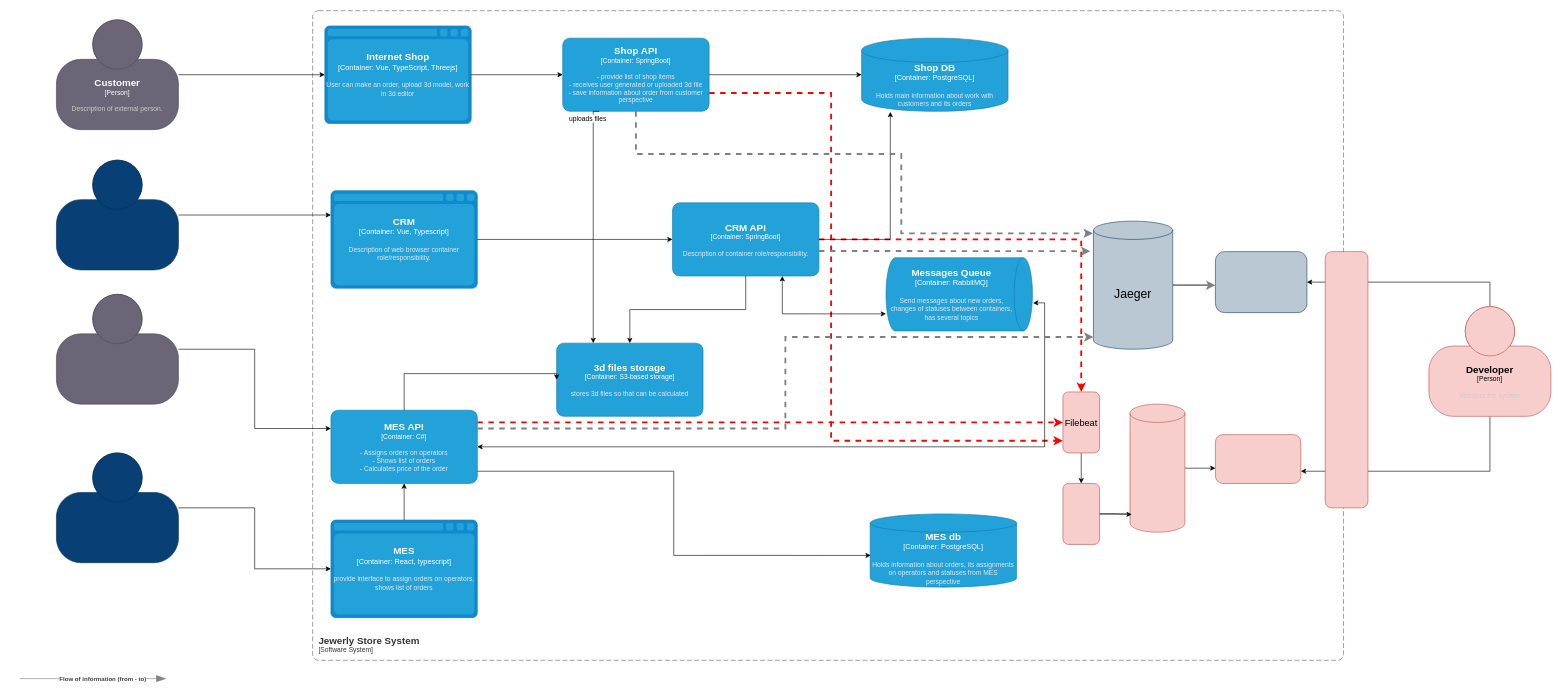
Image size: 1562x699. Some labels were removed from this diagram. The box of each missing label's shape, as (x1, y1, x2, y2) in pixels:
API user [Person] Description of external person.: (56, 294, 178, 404)
Elastic search: (1129, 404, 1185, 532)
Jaeger UI: (1215, 251, 1307, 313)
Kibana: (1215, 434, 1301, 483)
Logstash: (1062, 483, 1100, 544)
nginx: (1325, 251, 1368, 508)
Operator [Person] Takes order in work, manufactures jewerly: (56, 452, 178, 563)
Seller [Person] Operates with order, confirms manufacturing for the user: (56, 160, 178, 270)
